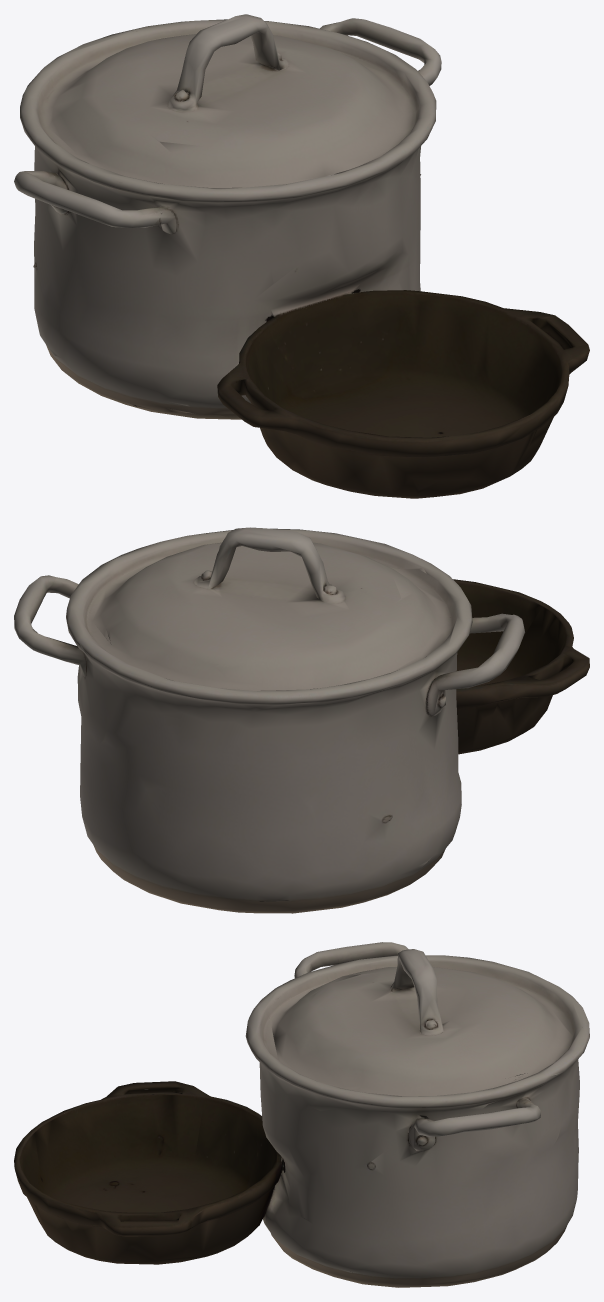
File: pot_and_pan.glb
The picture shows the model from 3 angles, top to bottom: view 1: azimuth 30°, elevation 25°; view 2: azimuth 150°, elevation 25°; view 3: azimuth 270°, elevation 25°; orthographic projection. The views are drawn at different scales.
Parts seen in each view (by area): view 1: pot_and_pan; view 2: pot_and_pan; view 3: pot_and_pan.
Part boxes in pixels (<box>): pot_and_pan: <box>14,14,589,498</box>; pot_and_pan: <box>14,527,589,913</box>; pot_and_pan: <box>14,942,589,1287</box>.
Bounding box in the file's own units: 0.4116 × 0.2862 × 0.5499.
1 material, 1 textured.
